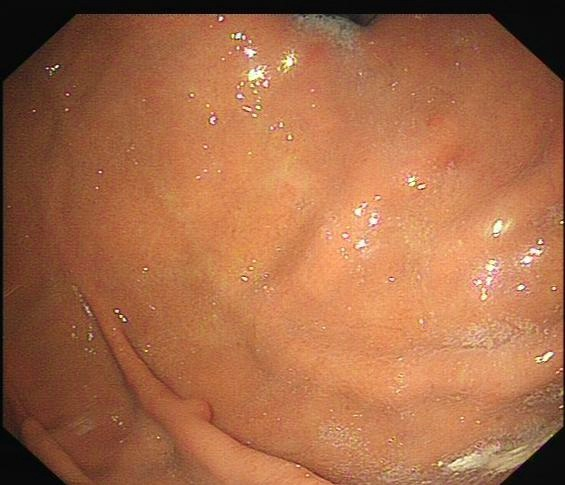Polyp: (170, 383, 223, 434)
